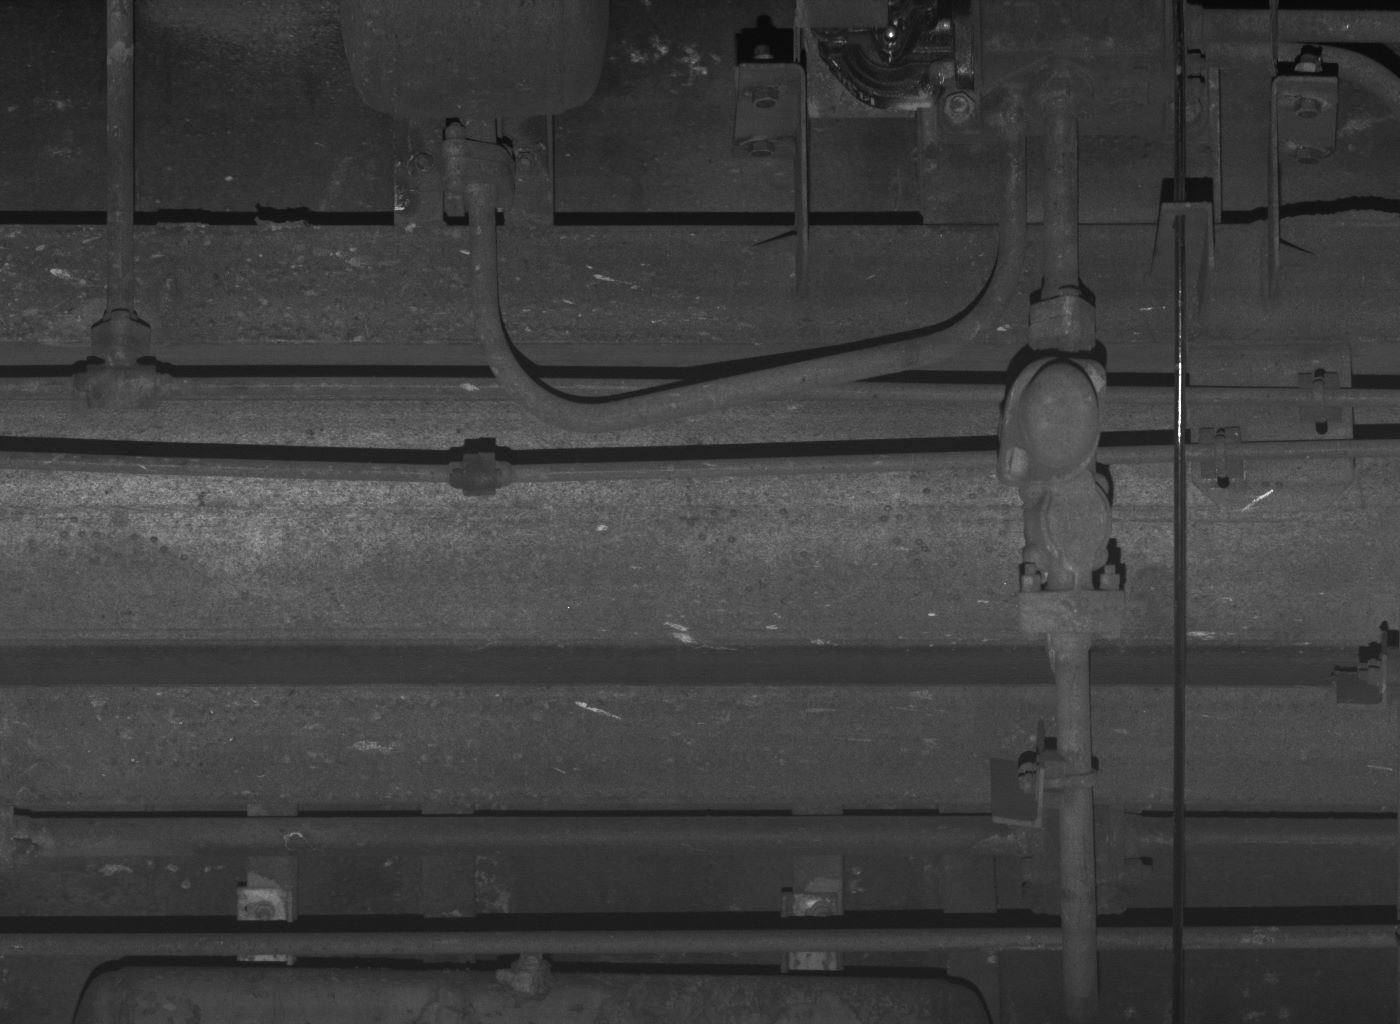normal: (1020, 470, 1112, 573)
